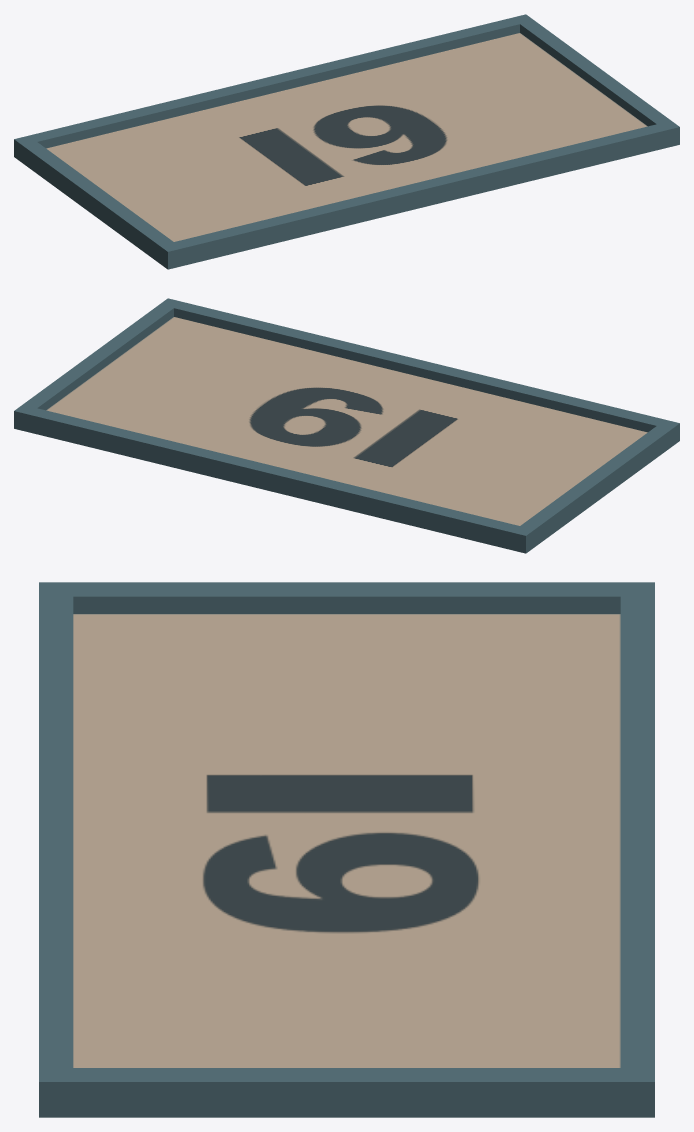
File: Sign_I9.glb
3 views of the same model, one above another, from view 1: azimuth 30°, elevation 25°; view 2: azimuth 150°, elevation 25°; view 3: azimuth 270°, elevation 25° (orthographic). The views are drawn at different scales.
Parts seen in each view (by area): view 1: I9; view 2: I9; view 3: I9.
Part boxes in pixels (<box>): I9: <box>14,14,679,269</box>; I9: <box>14,298,679,553</box>; I9: <box>39,582,654,1117</box>.
Size of the model in its own units: 3.84 by 0.1273 by 2.
1 material, 1 textured.
